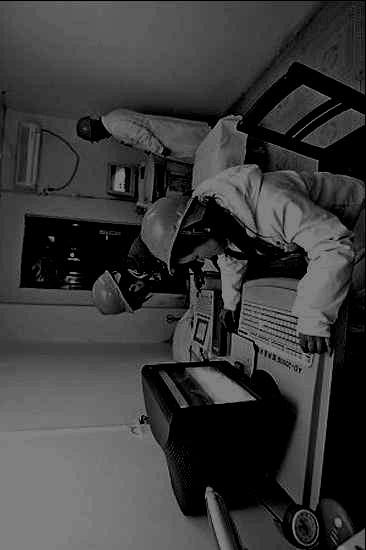helmet: (140, 195, 230, 276), (91, 269, 151, 316), (76, 116, 108, 145)
